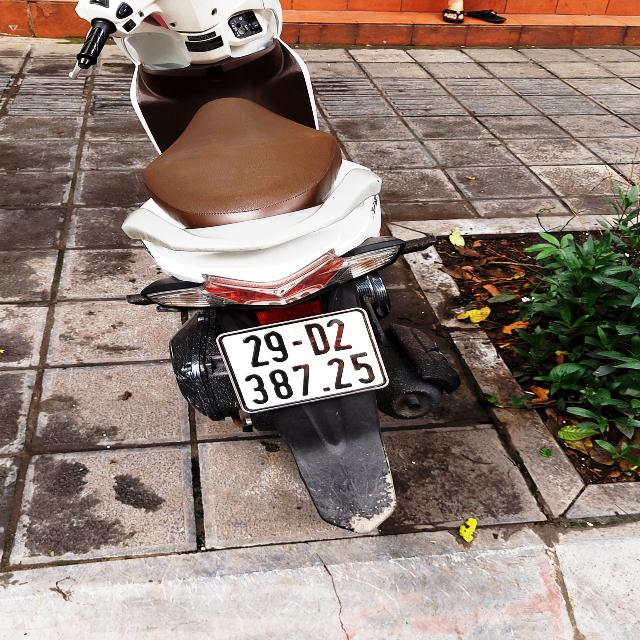license_plate: (218, 311, 387, 413)
